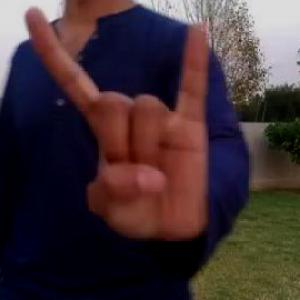takeoff-hand: (12, 0, 221, 251)
